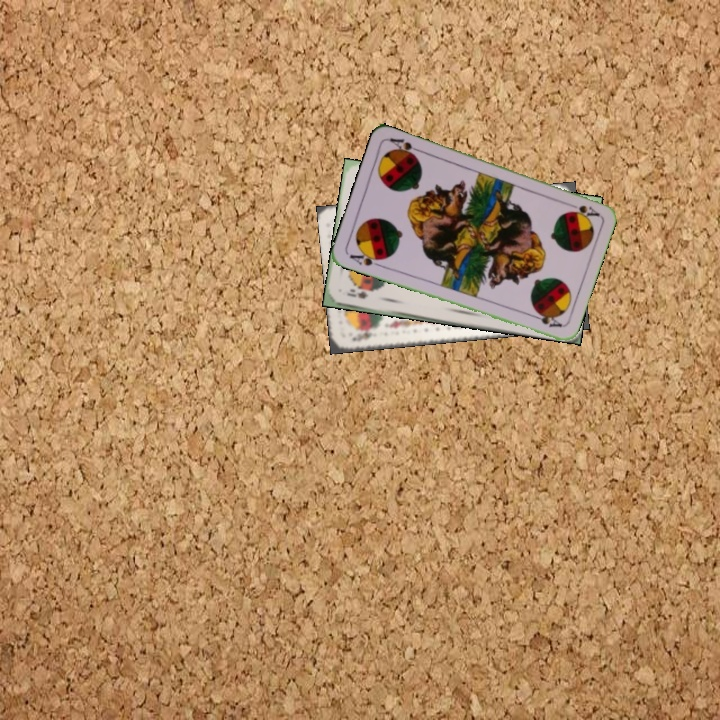SA: (345, 247, 386, 270), (562, 198, 602, 219)
SK: (348, 326, 374, 344)
SO: (343, 285, 370, 301)
